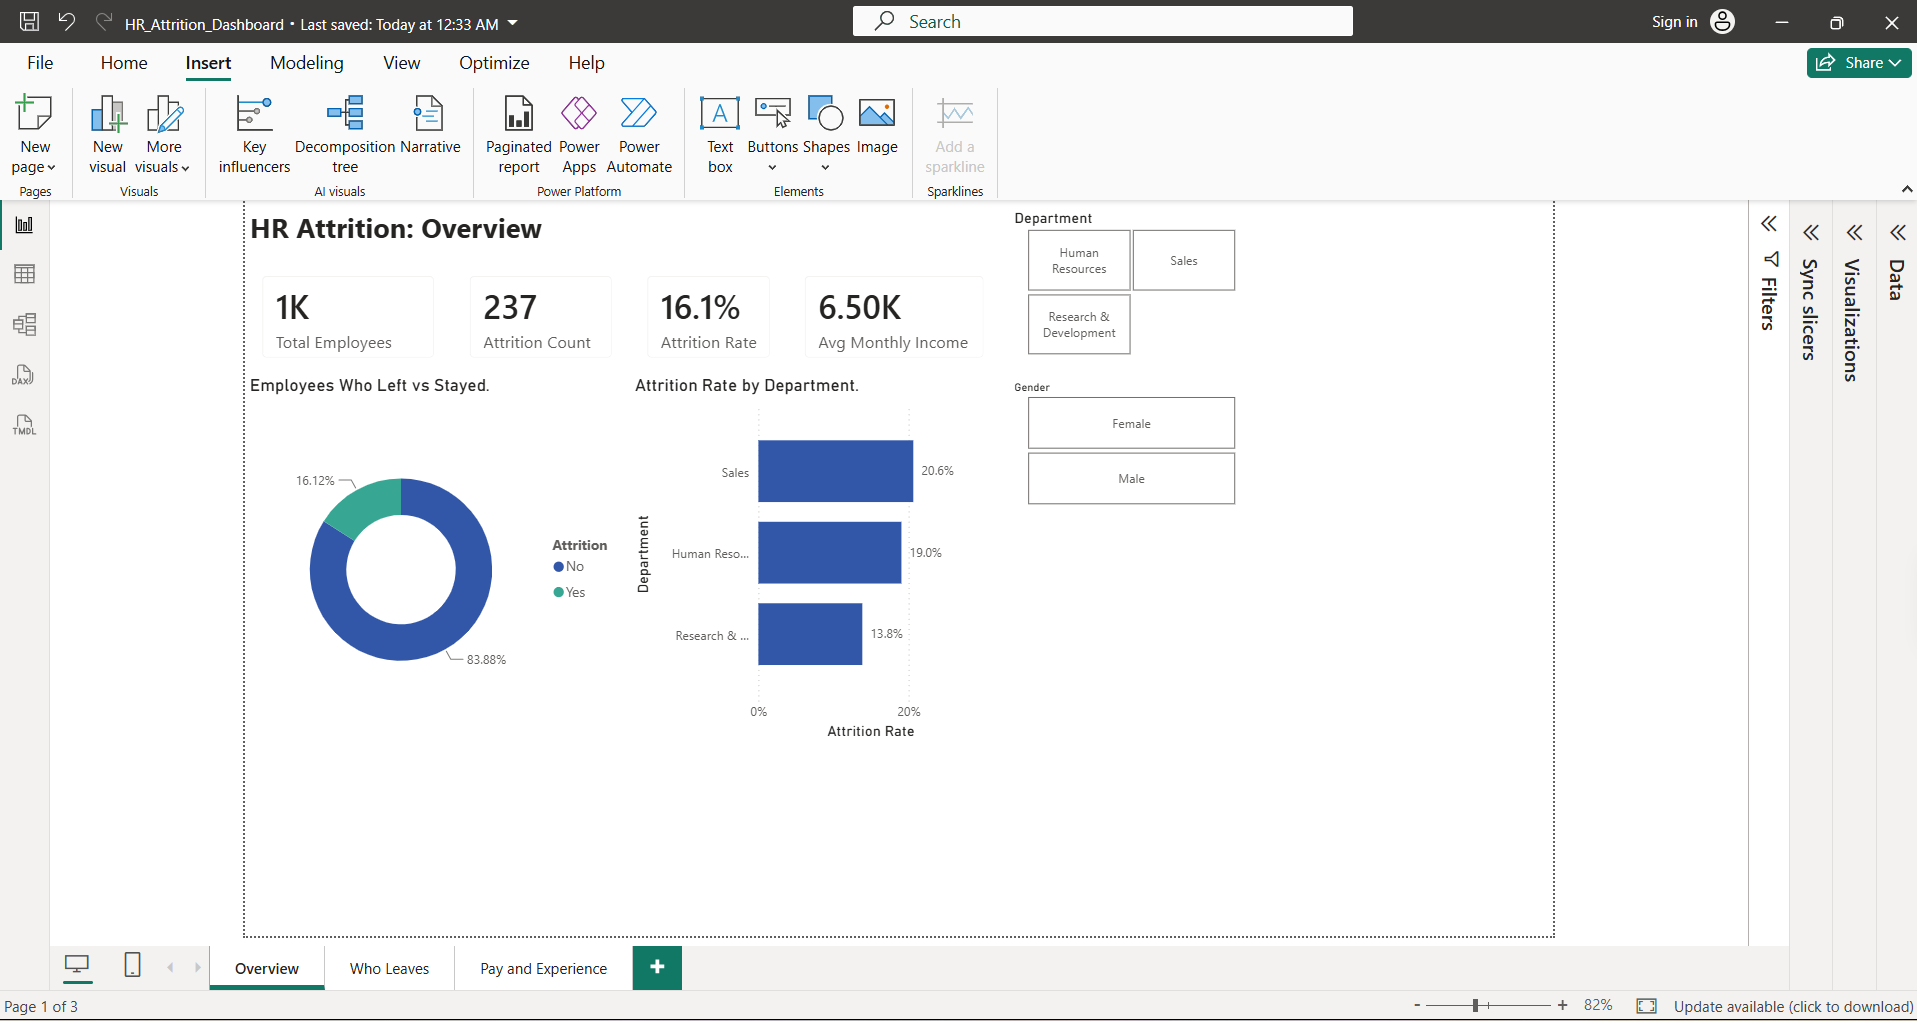

The page's visual inventory and layout, read from the dashboard file:
{"tool":"powerbi","page":{"name":"Overview","canvas":[1280,720],"ordinal":0},"visuals":[{"type":"cardVisual","fields":{"Data":["HR_Data.Total Employees"]},"box":[0,57.9,202.6,114],"z":0},{"type":"cardVisual","fields":{"Data":["HR_Data.Attrition Count"]},"box":[202.6,57.9,173.6,114],"z":1000},{"type":"cardVisual","fields":{"Data":["HR_Data.Attrition Rate"]},"box":[376.2,57.9,154.9,114],"z":2000},{"type":"cardVisual","fields":{"Data":["HR_Data.Avg Monthly Income"]},"box":[531.1,57.9,209.4,114],"z":3000},{"type":"donutChart","title":"Employees Who Left vs Stayed.","fields":{"Category":["HR_Data.Attrition"],"Y":["HR_Data.Total Employees"]},"box":[0,171.2,376.6,362],"z":4000},{"type":"clusteredBarChart","title":"Attrition Rate by Department.","fields":{"Category":["HR_Data.Department"],"Y":["HR_Data.Attrition Rate"]},"box":[376.6,171.2,363.2,362],"z":5000},{"type":"slicer","fields":{"Values":["HR_Data.Department"]},"box":[739.8,3.7,253.1,154.1],"z":6000},{"type":"slicer","fields":{"Values":["HR_Data.Gender"]},"box":[739.8,171.2,253.1,133.3],"z":7000},{"type":"textbox","box":[0,3.4,468.1,54.5],"z":7001}]}

Visuals, with their boxes on the page's 1280x720 design canvas (x1, y1, x2, y2). These are canvas units, not pixel positions in the 1917x1021 screenshot, which may show the page scaled, cropped or inside an application window:
cardVisual - HR_Data.Total Employees: BBox(0, 58, 203, 172)
cardVisual - HR_Data.Attrition Count: BBox(203, 58, 376, 172)
cardVisual - HR_Data.Attrition Rate: BBox(376, 58, 531, 172)
cardVisual - HR_Data.Avg Monthly Income: BBox(531, 58, 740, 172)
"Employees Who Left vs Stayed." donutChart: BBox(0, 171, 377, 533)
"Attrition Rate by Department." clusteredBarChart: BBox(377, 171, 740, 533)
slicer - HR_Data.Department: BBox(740, 4, 993, 158)
slicer - HR_Data.Gender: BBox(740, 171, 993, 304)
textbox: BBox(0, 3, 468, 58)
